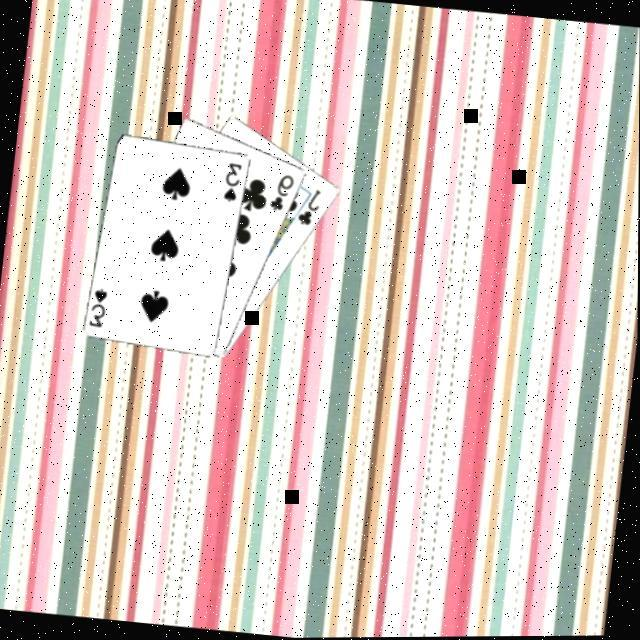3S: (222, 158, 246, 204), (88, 283, 112, 329)
9C: (268, 169, 300, 214)
JC: (296, 184, 326, 228)
